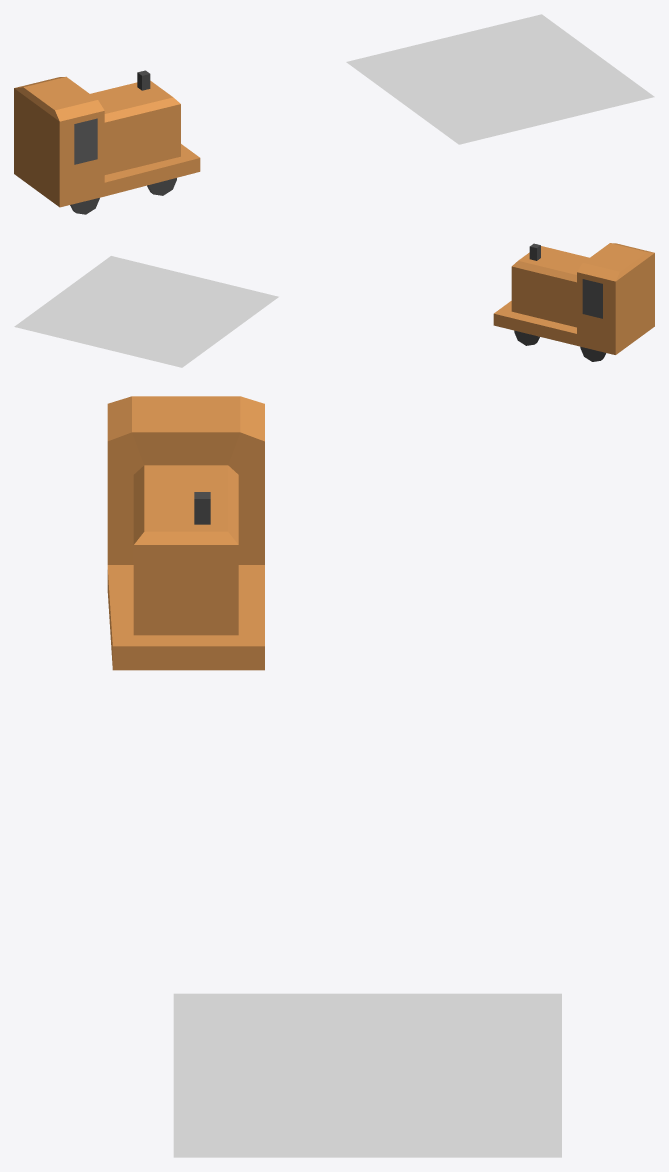
The model's file is shunter.fbx.
3 renders of one model, top to bottom at view 1: azimuth 30°, elevation 25°; view 2: azimuth 150°, elevation 25°; view 3: azimuth 270°, elevation 25°, orthographic. The views are drawn at different scales.
Visible parts, largest first — view 1: Plane, Cube; view 2: Plane, Cube; view 3: Plane, Cube.
Boxes of the visible parts, x1,y1,x2,y2 form: Plane: [346, 14, 654, 144]; Cube: [14, 70, 200, 214]; Plane: [14, 256, 278, 367]; Cube: [493, 243, 654, 361]; Plane: [173, 993, 561, 1157]; Cube: [107, 396, 264, 670].
Size of the model in its own units: 627 by 141 by 234.
